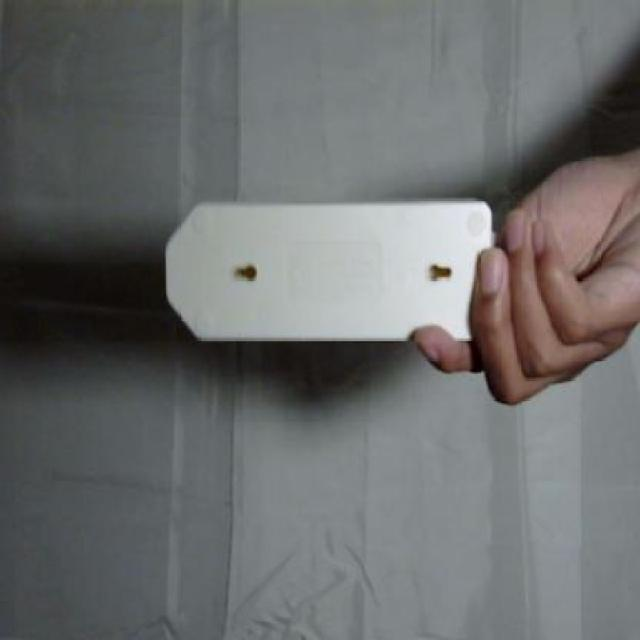Plastic: (165, 197, 494, 343)
